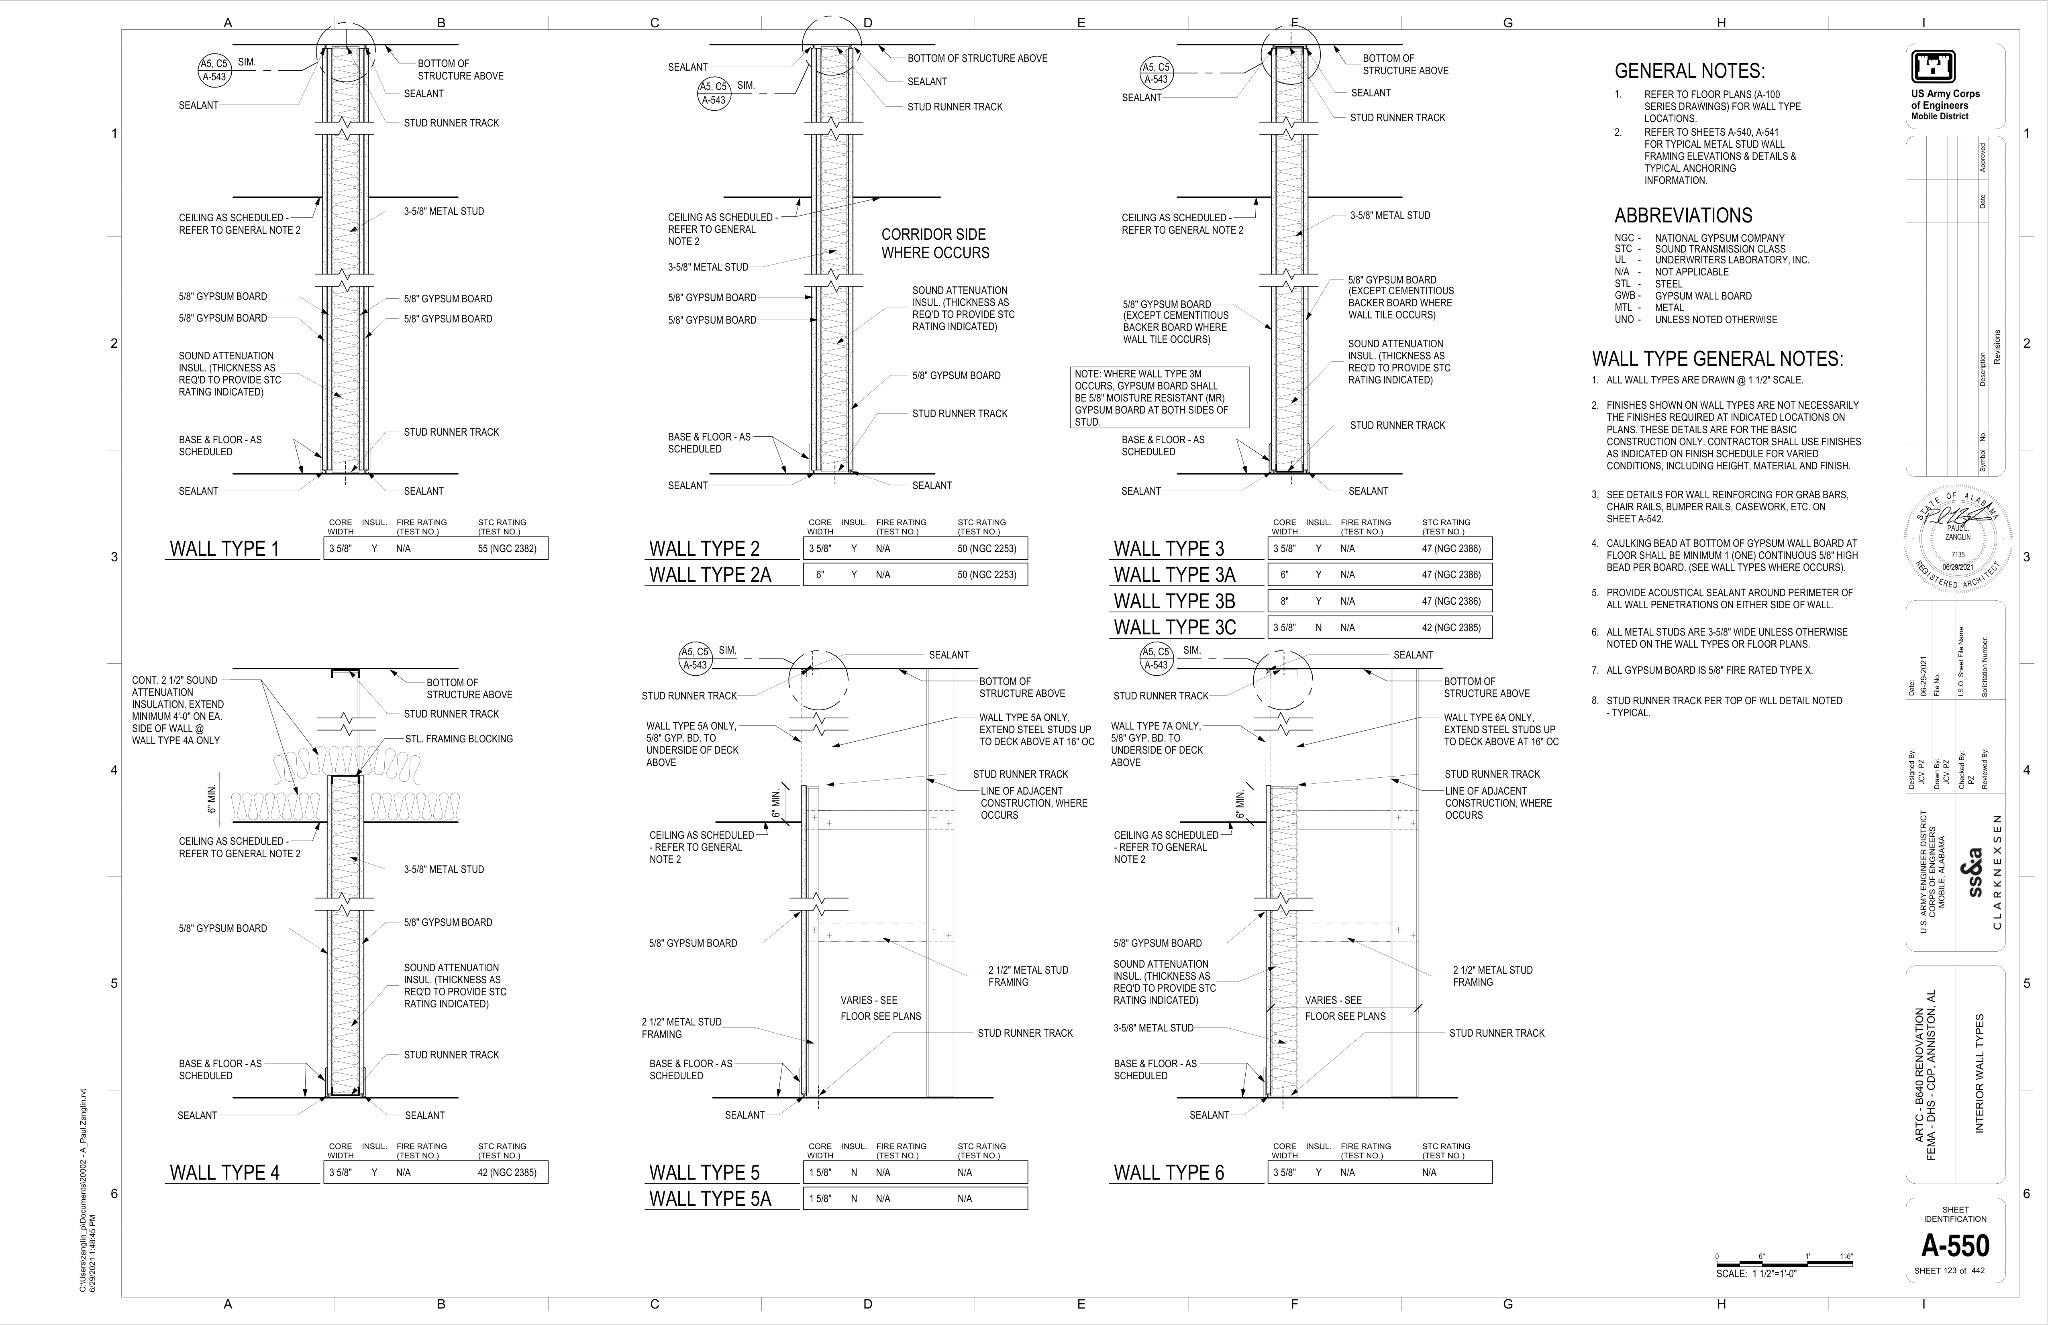detail: (676, 637, 751, 677), (1136, 54, 1212, 92), (695, 73, 762, 112), (195, 50, 259, 90), (1137, 641, 1208, 676)
